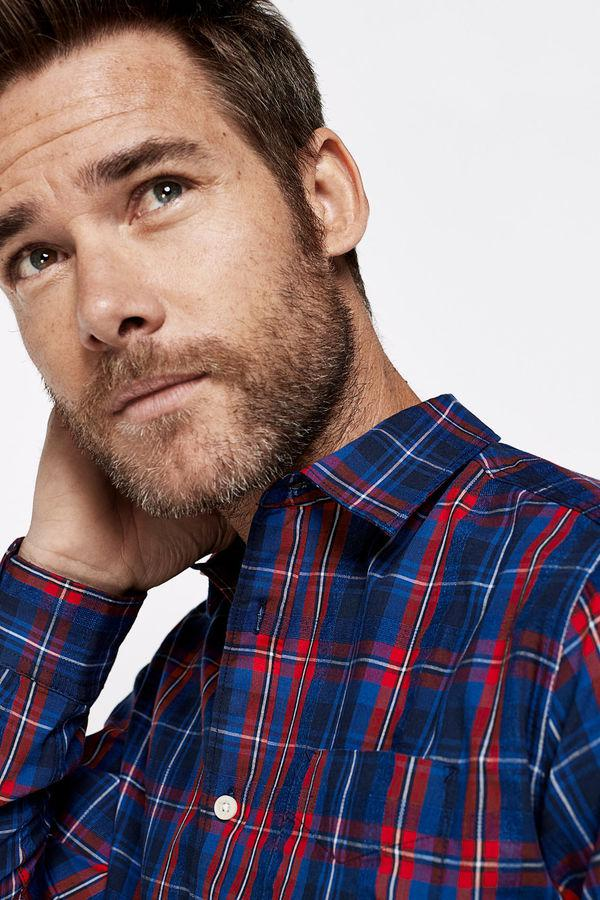teeshirt: (1, 338, 598, 900)
